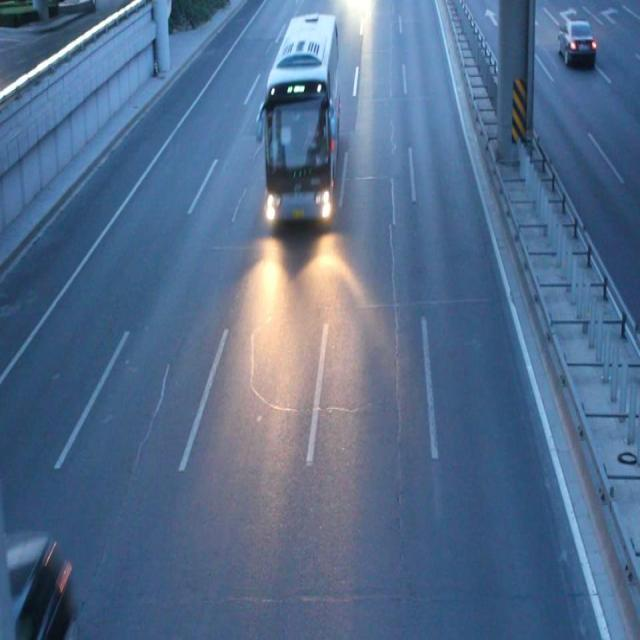van: (258, 17, 340, 227)
